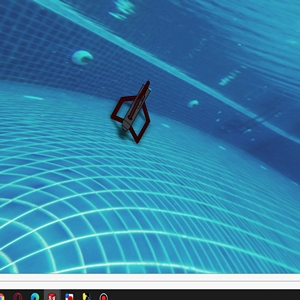submarine: (113, 79, 154, 141)
